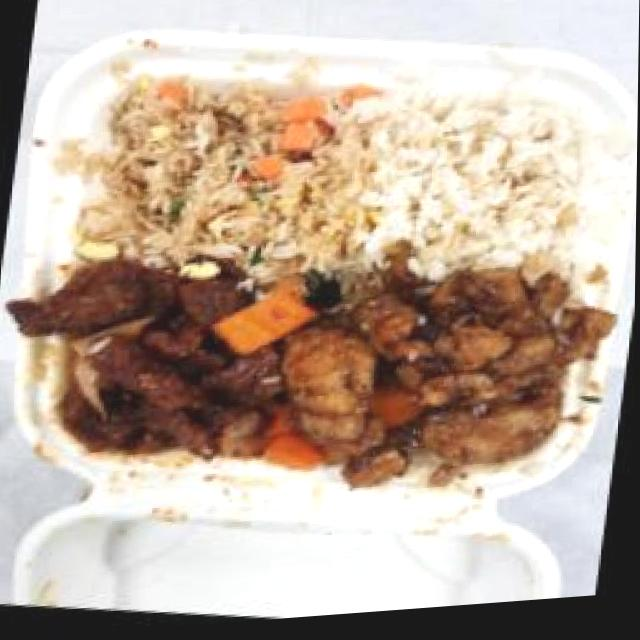Beijing Beef: (0, 236, 315, 493)
Fried Rice: (63, 56, 374, 299)
The Original Orange Chicken: (269, 244, 622, 527)
White Steamed Rice: (333, 74, 624, 303)
